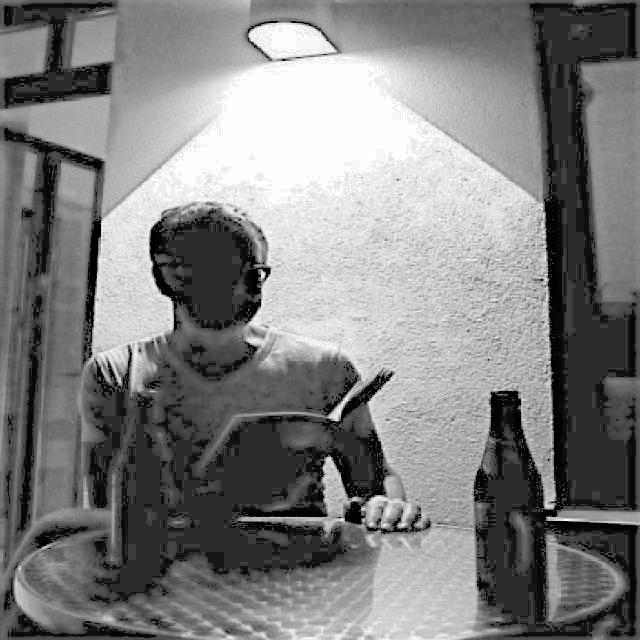Person: (79, 193, 436, 536)
